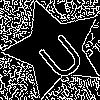U: (29, 24, 89, 83)
